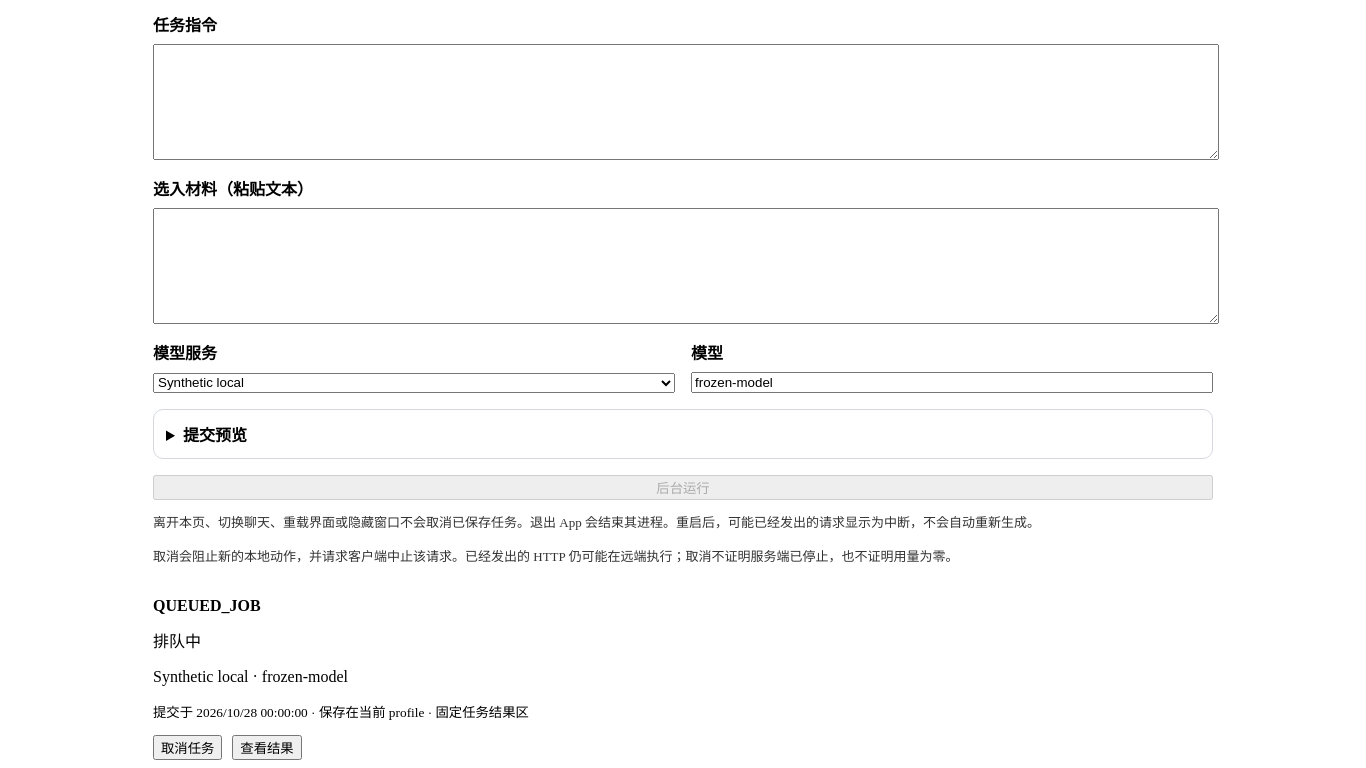
it: background text job UI › cancels only the selected saved job and leaving the page does not cancel any job
(page scrolled)
Check: the element "QUEUED_JOB" is shown, box [153, 597, 529, 760]
Click the button "取消任务". click: {"x": 188, "y": 747}
box: [153, 735, 222, 760]
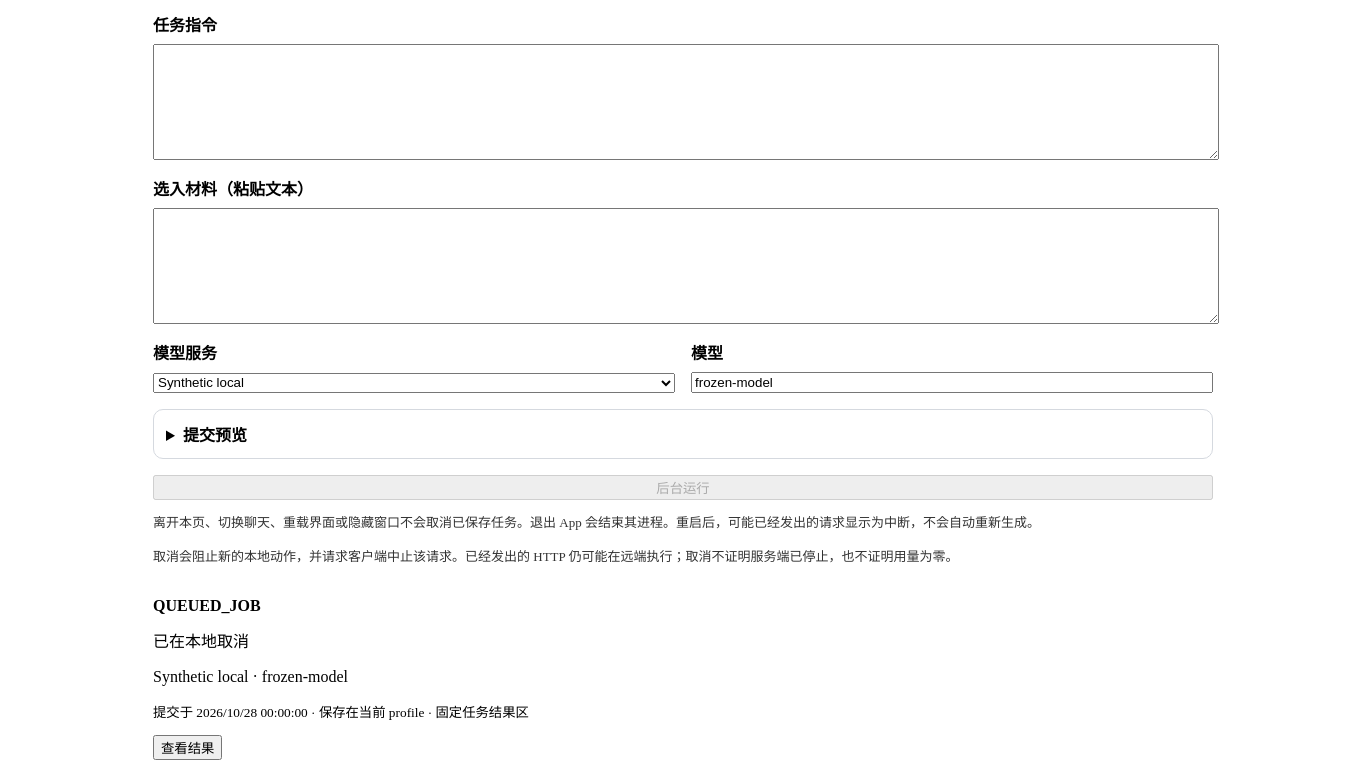
Check: the text "已在本地取消" is shown, box [153, 633, 249, 650]
